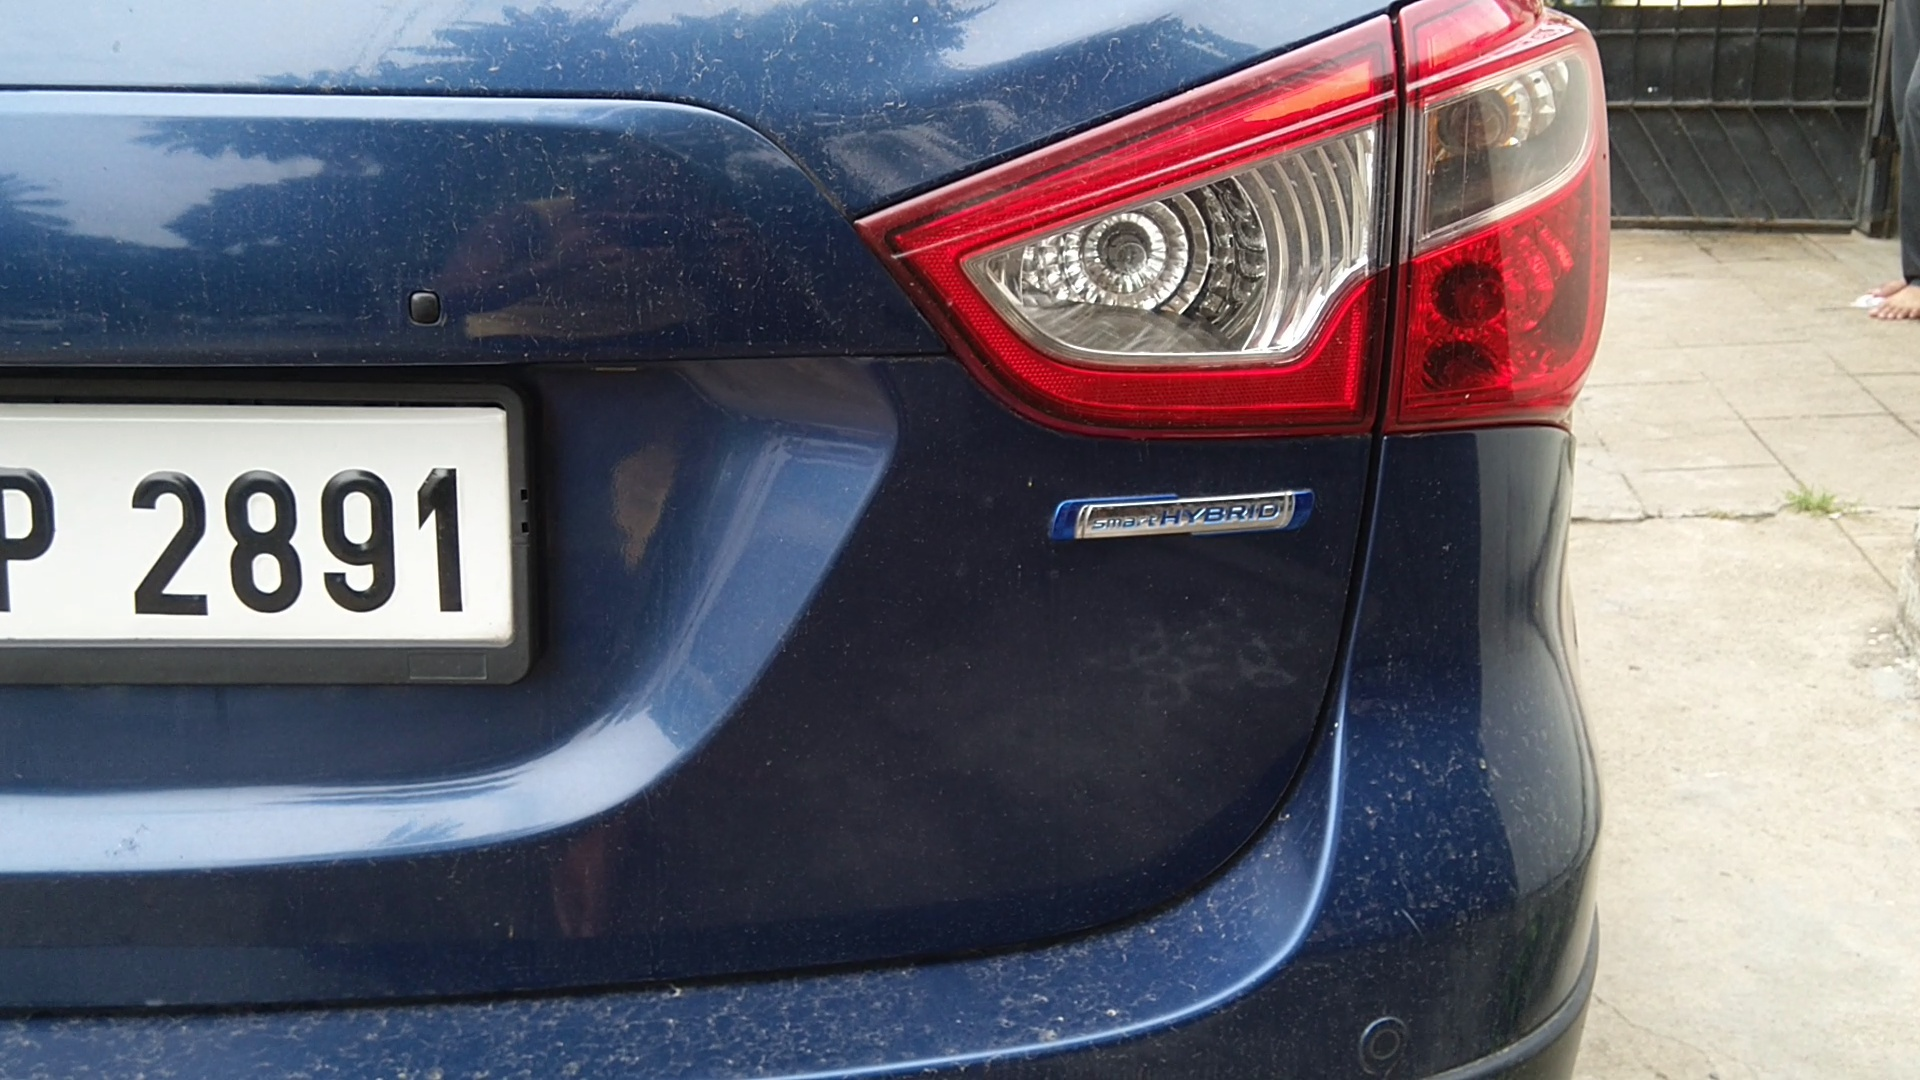shvs: (1029, 455, 1361, 582)
